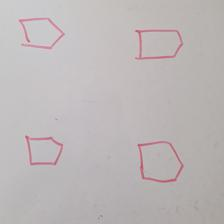cds: (137, 140, 184, 182), (18, 17, 66, 49), (135, 29, 183, 59), (24, 135, 64, 165)
